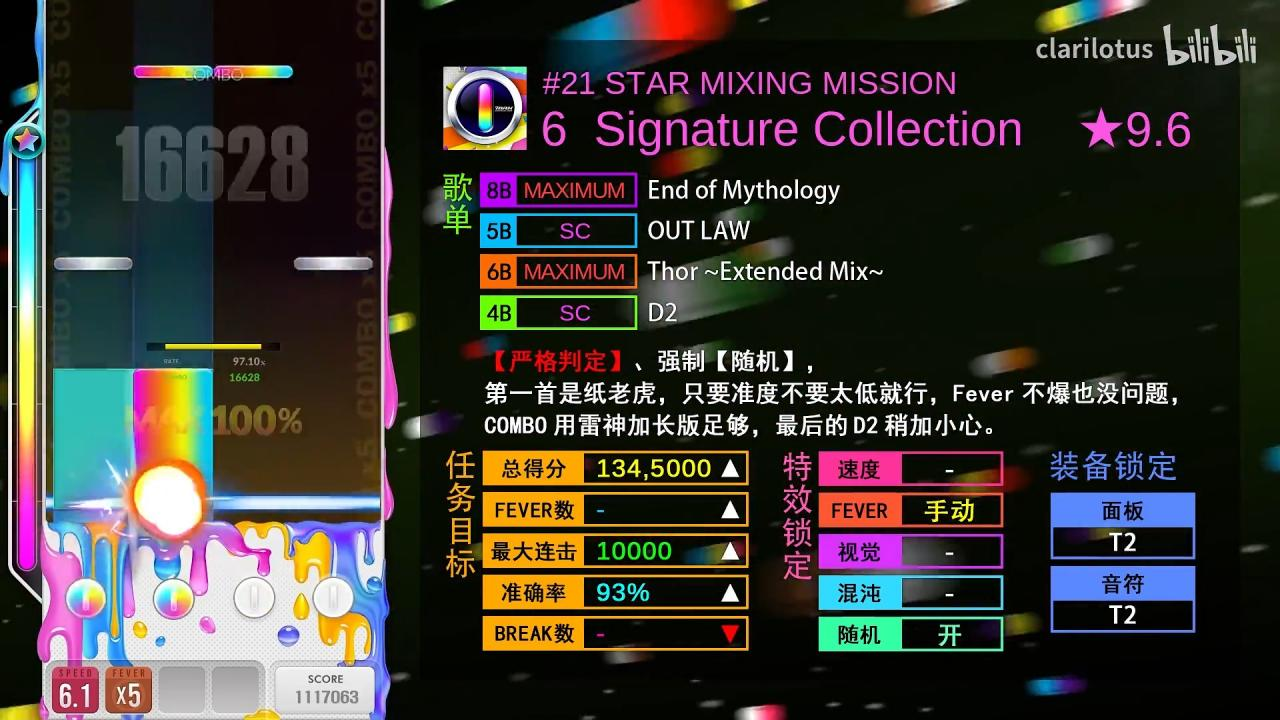hold-end: (133, 368, 213, 382)
note: (54, 257, 134, 271), (134, 65, 214, 79), (214, 65, 293, 79), (294, 257, 372, 271)
side-end: (53, 367, 214, 381)
